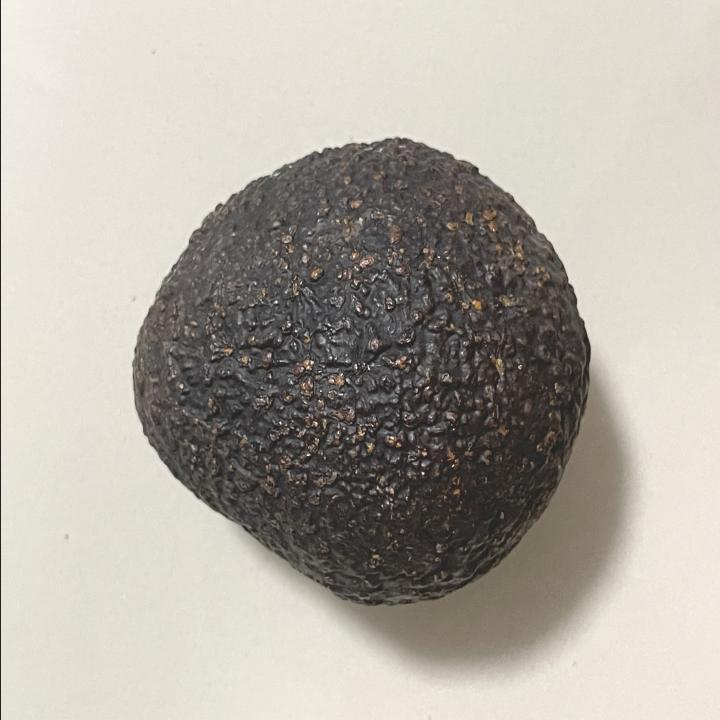Level3: (126, 127, 596, 613)
